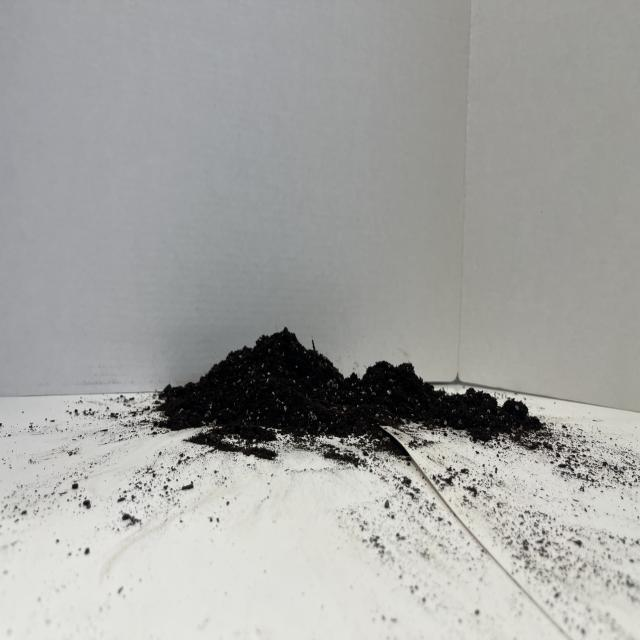soil: (155, 324, 546, 450)
